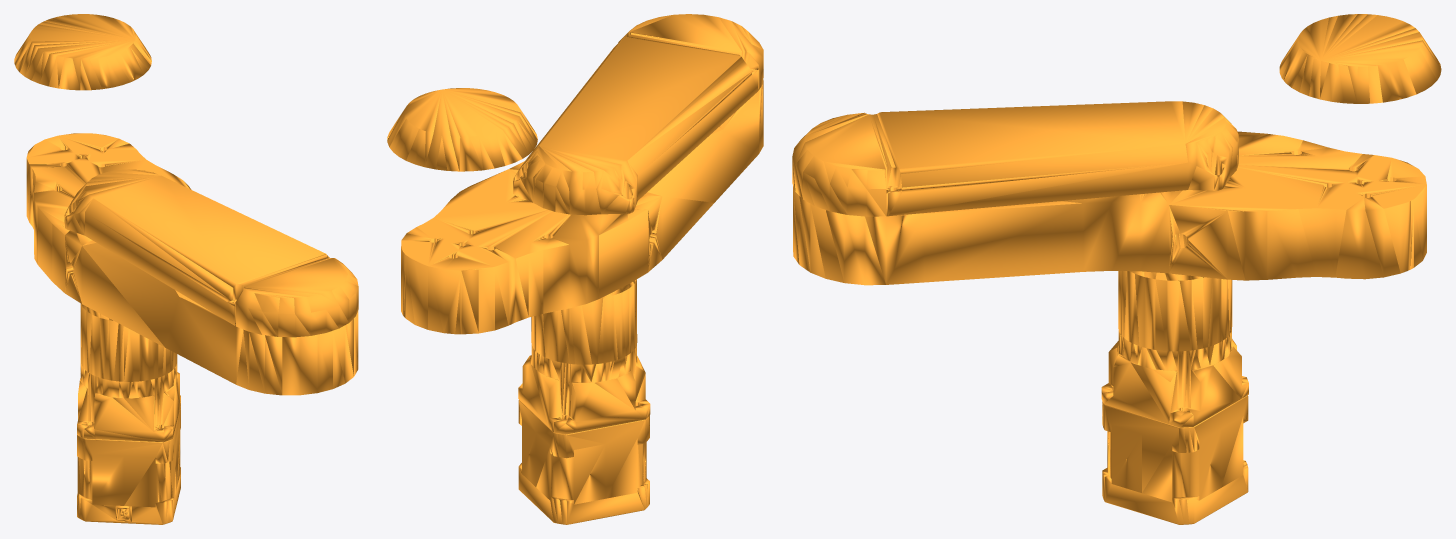
Rendered from PAROL6Link2.dae.
3 views of the same model, side by side, from view 1: azimuth 30°, elevation 25°; view 2: azimuth 150°, elevation 25°; view 3: azimuth 270°, elevation 25° (orthographic). The views are drawn at different scales.
Parts seen in each view (by area): view 1: L2; view 2: L2; view 3: L2.
Boxes of the visible parts, x1,y1,x2,y2 form: L2: (14,14,358,524); L2: (387,14,763,524); L2: (792,14,1441,524).
Bounding box in the file's own units: 0.0771 × 0.24 × 0.193.
